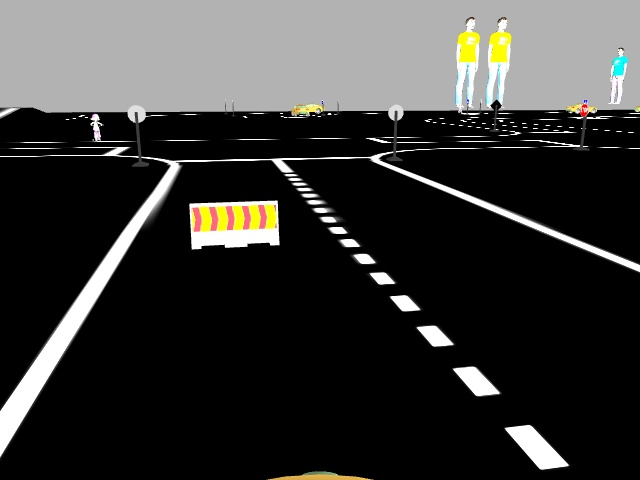ClosedRoadStand: (190, 204, 277, 245)
